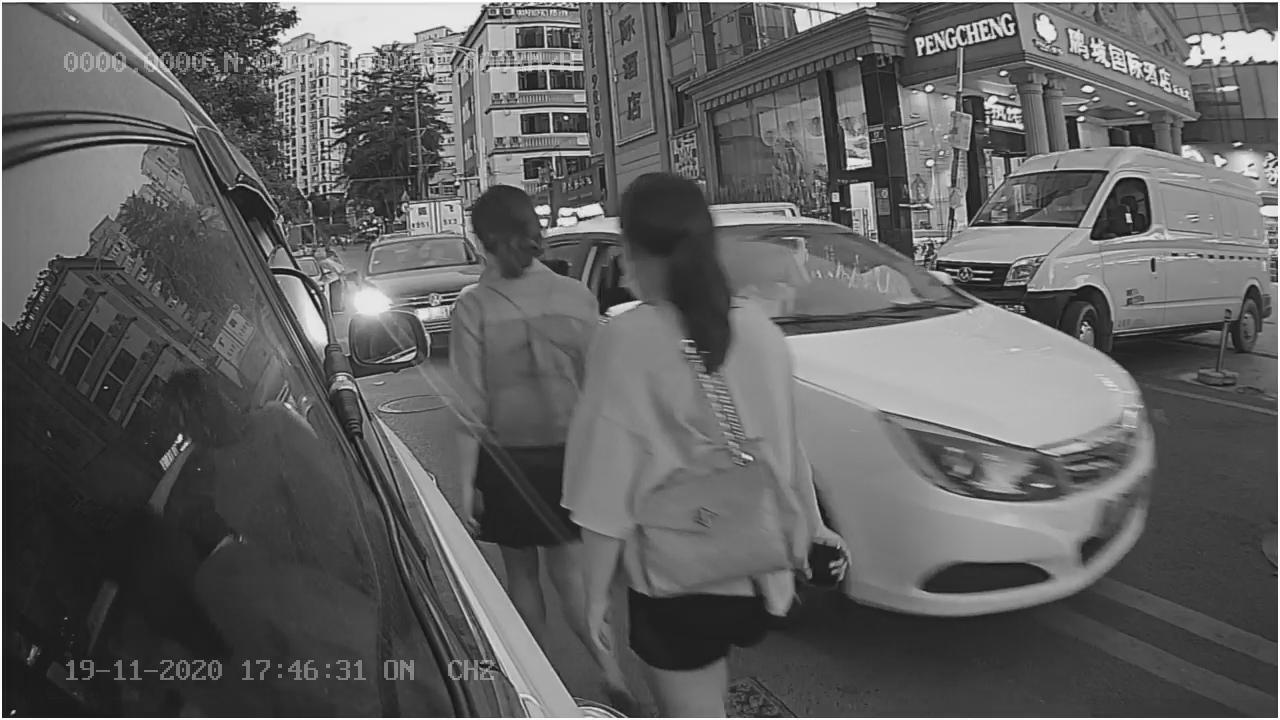person: (584, 180, 821, 652)
